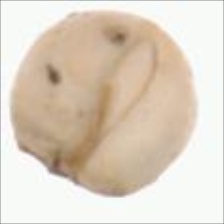L5: (87, 37, 161, 146), (12, 134, 122, 203), (120, 7, 187, 64)
L6: (7, 6, 204, 201)
